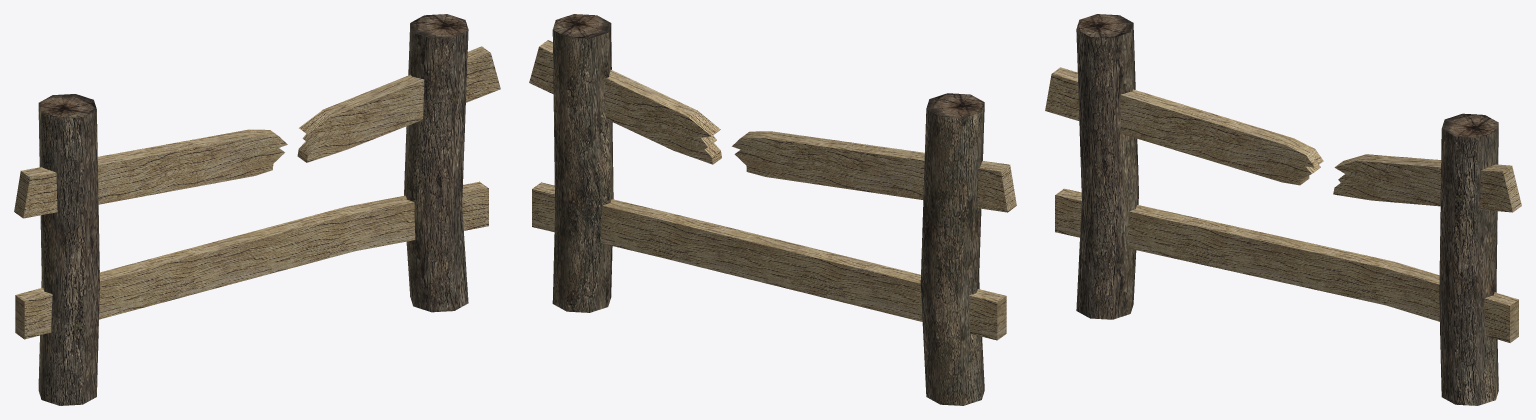
Rendered from woodenFence03.FBX.
3 renders of one model, left to right at view 1: azimuth 30°, elevation 25°; view 2: azimuth 150°, elevation 25°; view 3: azimuth 330°, elevation 25°, orthographic. The views are drawn at different scales.
Parts seen in each view (by area): view 1: wooden_fence_small_broken_2poles; view 2: wooden_fence_small_broken_2poles; view 3: wooden_fence_small_broken_2poles.
Boxes of the visible parts, <box> form: wooden_fence_small_broken_2poles: <box>14,14,500,405</box>; wooden_fence_small_broken_2poles: <box>529,14,1016,405</box>; wooden_fence_small_broken_2poles: <box>1045,14,1521,405</box>.
Bounding box in the file's own units: 261 × 150 × 31.02.
